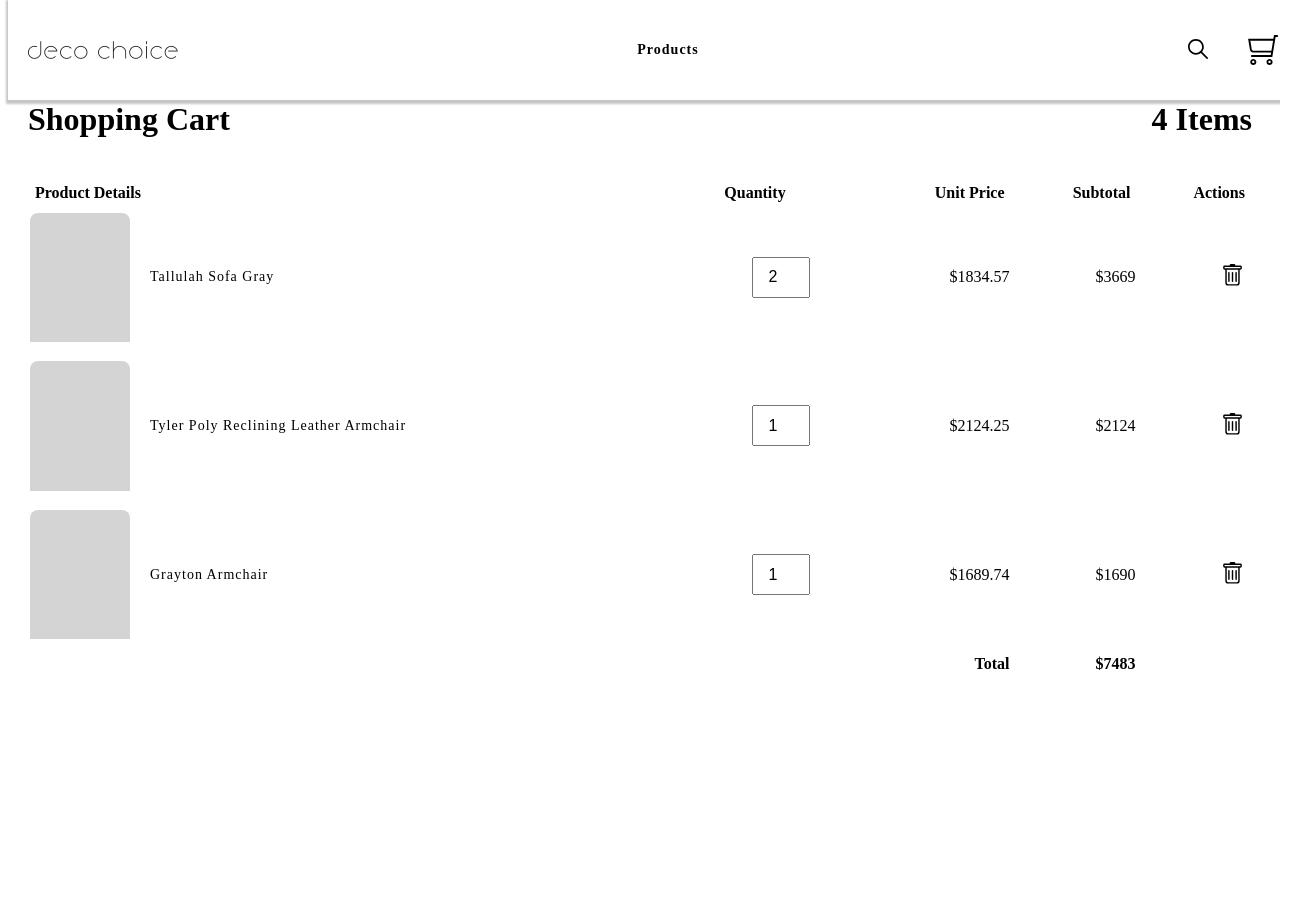
Cart › should allow update the quantity of items for a particular product in the cart
Expected: the cell with test id "cartTotal" reads "$7483", [1012, 650, 1136, 678]
Expected: the text with test id "cartTitleCount" reads "4 Items", [1152, 101, 1252, 160]
Replace the text in the number field in the row of "Tallulah Sofa Gray" with "1": (780, 277) [752, 257, 810, 298]
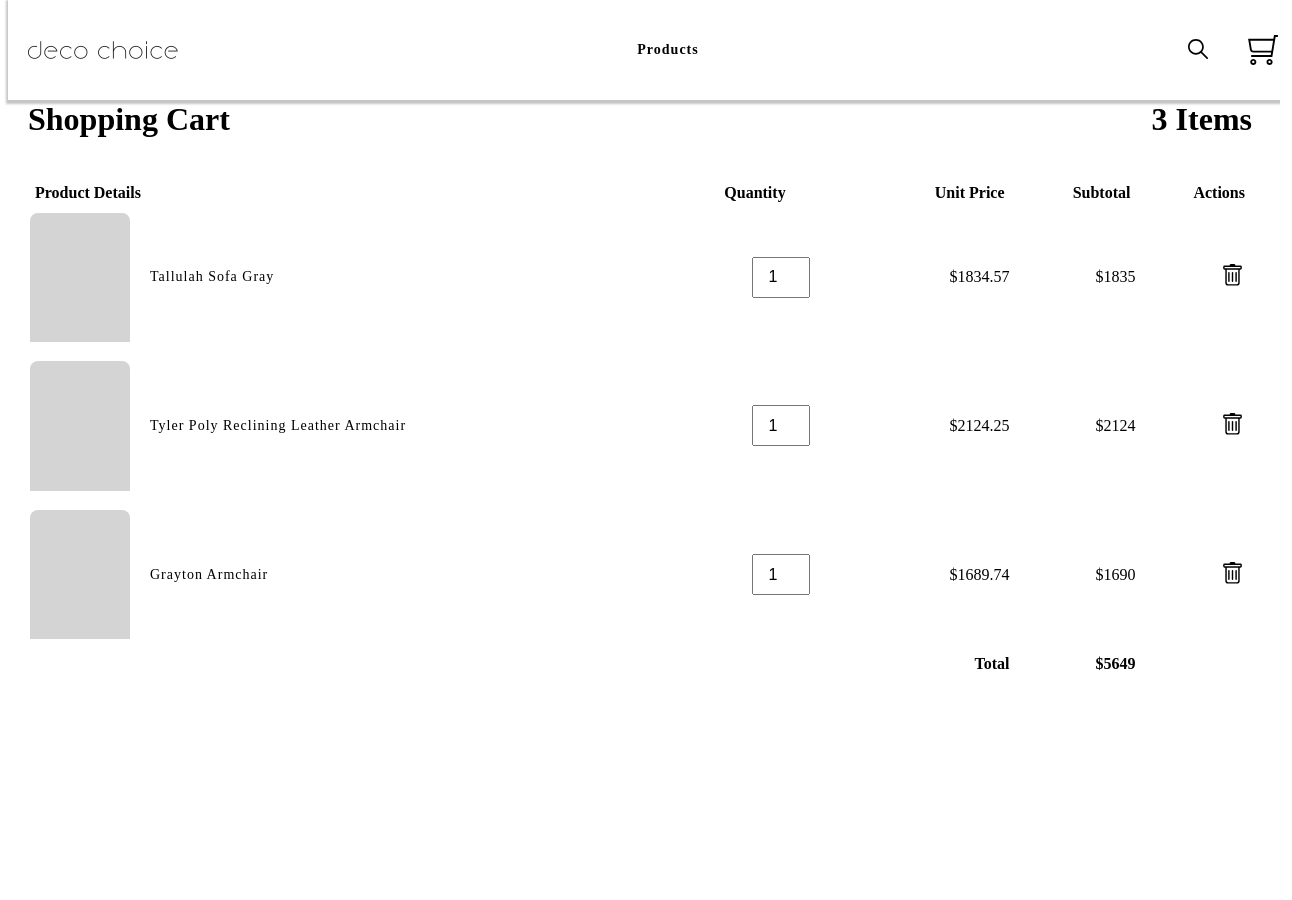
Expected: the cell with test id "cartTotal" reads "$5649", [1012, 650, 1136, 678]
Expected: the text with test id "cartTitleCount" reads "3 Items", [1152, 101, 1252, 160]
